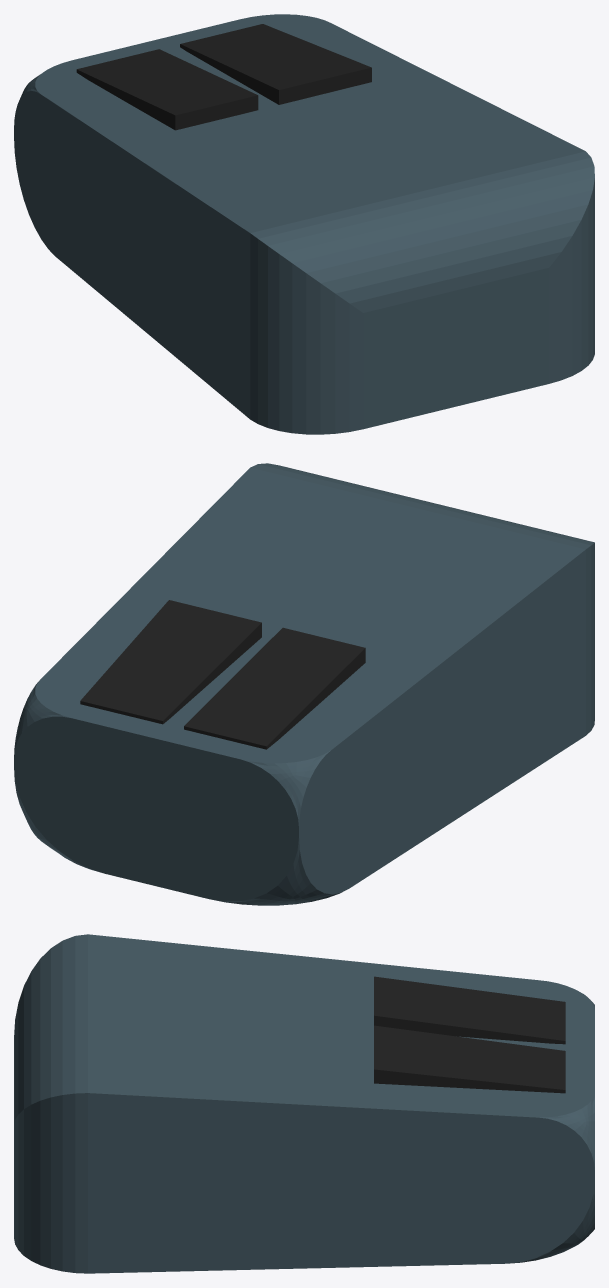
Rendered from mouse.gltf.
3 views of the same model, one above another, from view 1: azimuth 30°, elevation 25°; view 2: azimuth 150°, elevation 25°; view 3: azimuth 270°, elevation 25° (orthographic). The views are drawn at different scales.
Parts seen in each view (by area): view 1: mouse; view 2: mouse; view 3: mouse.
Part boxes in pixels (x1=…): mouse: x1=14, y1=14, x2=594, y2=434; mouse: x1=14, y1=463, x2=594, y2=905; mouse: x1=14, y1=934, x2=594, y2=1273.
Bounding box in the file's own units: 0.066 × 0.035 × 0.1021.
1 material, 1 textured.
